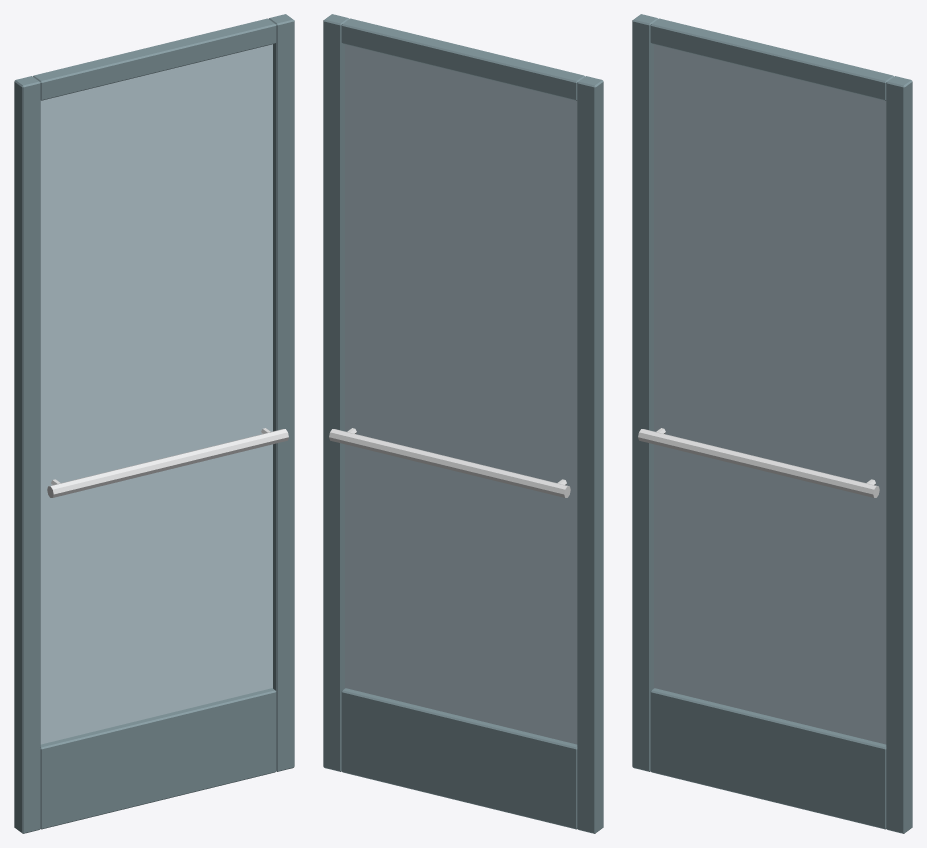
Rendered from door_leaf_glass.glb.
3 renders of one model, left to right at view 1: azimuth 30°, elevation 25°; view 2: azimuth 150°, elevation 25°; view 3: azimuth 330°, elevation 25°, orthographic.
Visible parts, largest first — view 1: door_leaf_glass_glass, door_leaf_glass_frame, door_leaf_glass_chrome; view 2: door_leaf_glass_glass, door_leaf_glass_frame, door_leaf_glass_chrome; view 3: door_leaf_glass_glass, door_leaf_glass_frame, door_leaf_glass_chrome.
Boxes of the visible parts, left/top/right/bottom form: door_leaf_glass_glass: left=40, top=44, right=272, bottom=744; door_leaf_glass_frame: left=14, top=14, right=294, bottom=833; door_leaf_glass_chrome: left=47, top=428, right=288, bottom=497; door_leaf_glass_glass: left=345, top=44, right=577, bottom=744; door_leaf_glass_frame: left=323, top=14, right=603, bottom=833; door_leaf_glass_chrome: left=329, top=428, right=570, bottom=497; door_leaf_glass_glass: left=654, top=44, right=886, bottom=744; door_leaf_glass_frame: left=632, top=14, right=912, bottom=833; door_leaf_glass_chrome: left=638, top=428, right=879, bottom=497.
Size of the model in its own units: 0.87 by 2.28 by 0.186.
